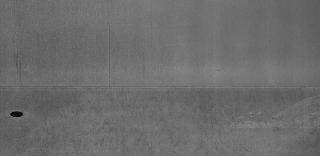punching hole: (8, 107, 26, 119)
silk spot: (50, 96, 316, 150)
welding line: (1, 81, 318, 91)
